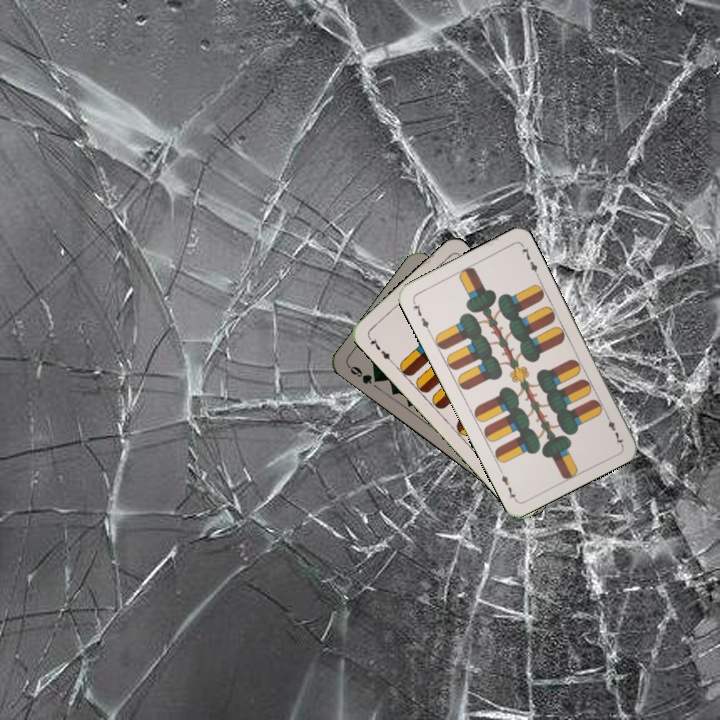E7: (364, 333, 396, 366), (601, 409, 626, 447), (408, 296, 432, 334)
G9: (344, 361, 383, 387)
